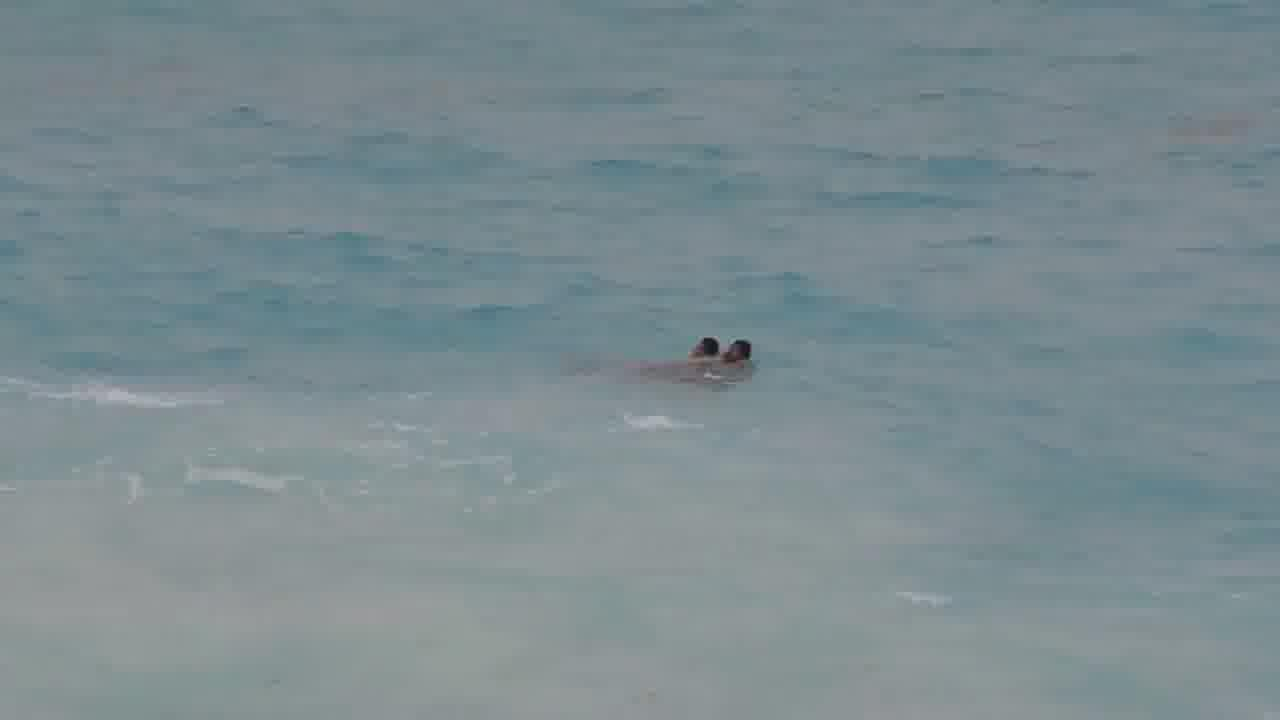swimmer: (690, 323, 714, 372), (727, 319, 748, 375)
